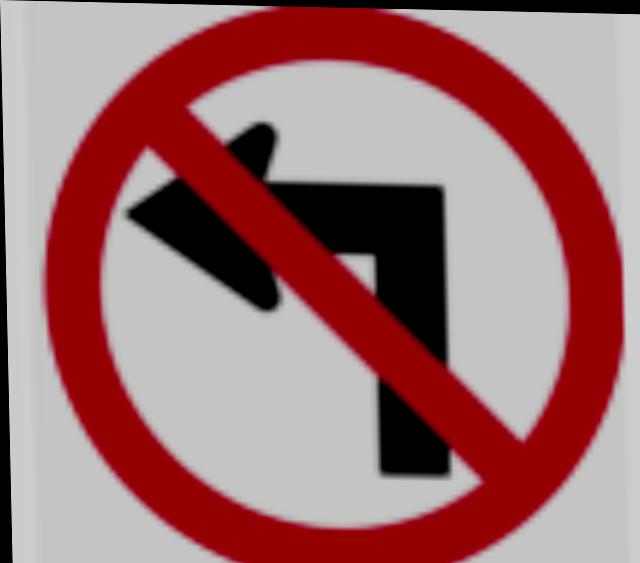not_turn_left: (37, 3, 635, 563)
